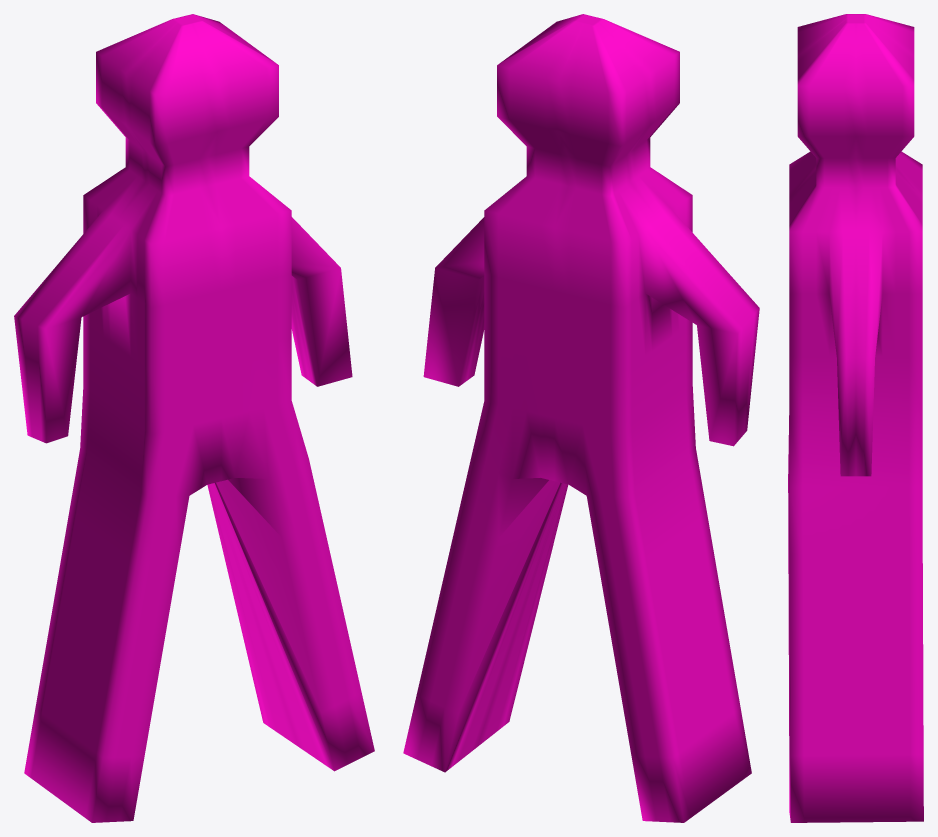
The model's file is HumanFemale.obj.
3 renders of one model, left to right at view 1: azimuth 30°, elevation 25°; view 2: azimuth 150°, elevation 25°; view 3: azimuth 270°, elevation 25°, orthographic.
Visible parts, largest first — view 1: pCube1; view 2: pCube1; view 3: pCube1.
Boxes of the visible parts, box(x1,y1,x2,y2) form: pCube1: box(14, 14, 374, 822); pCube1: box(403, 14, 759, 822); pCube1: box(788, 14, 923, 822).
Size of the model in its own units: 1.24 by 2.8 by 0.4663.
